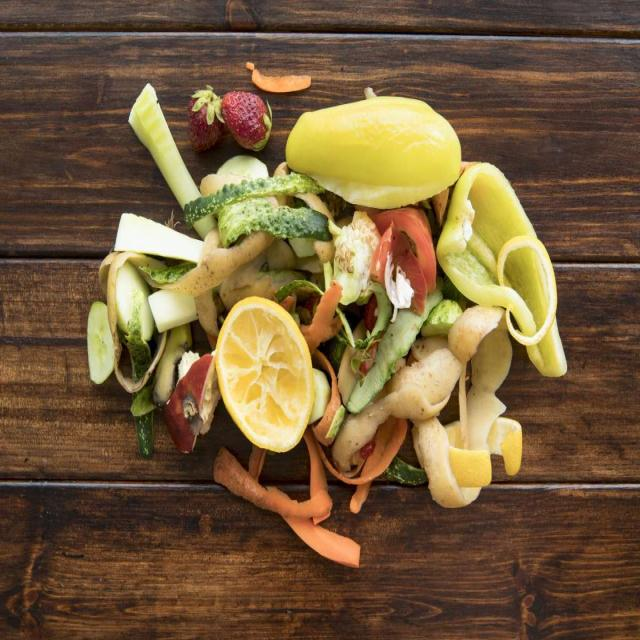organic: (435, 160, 567, 376), (390, 304, 512, 509), (285, 96, 462, 208), (214, 296, 316, 454), (128, 84, 210, 241), (118, 230, 276, 297), (213, 444, 333, 522), (368, 208, 435, 318), (179, 173, 320, 224), (497, 234, 557, 344), (163, 350, 221, 456), (441, 416, 523, 488), (219, 202, 328, 248), (326, 214, 380, 306), (105, 211, 198, 264), (122, 325, 154, 461), (264, 526, 363, 568), (221, 93, 272, 153), (186, 85, 225, 154), (88, 298, 116, 386), (148, 287, 198, 334), (246, 62, 312, 94), (374, 455, 429, 491), (419, 300, 463, 340)
